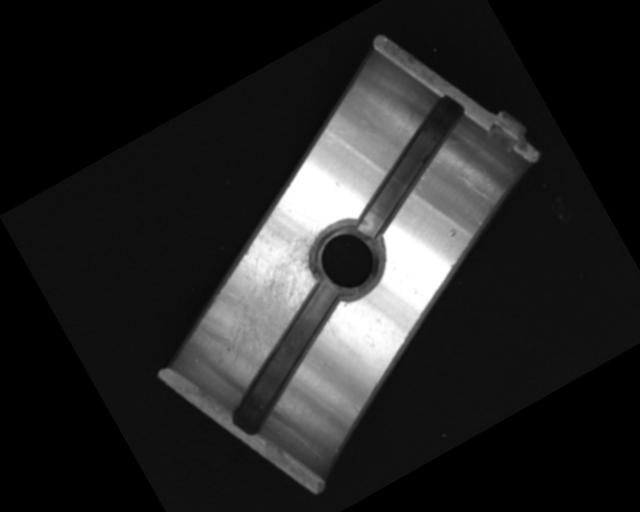bruise: (446, 226, 459, 239)
gap: (199, 281, 375, 437), (323, 92, 495, 241)
hole: (300, 210, 395, 308)
nick: (456, 164, 496, 212)
scratch: (174, 200, 363, 383)
